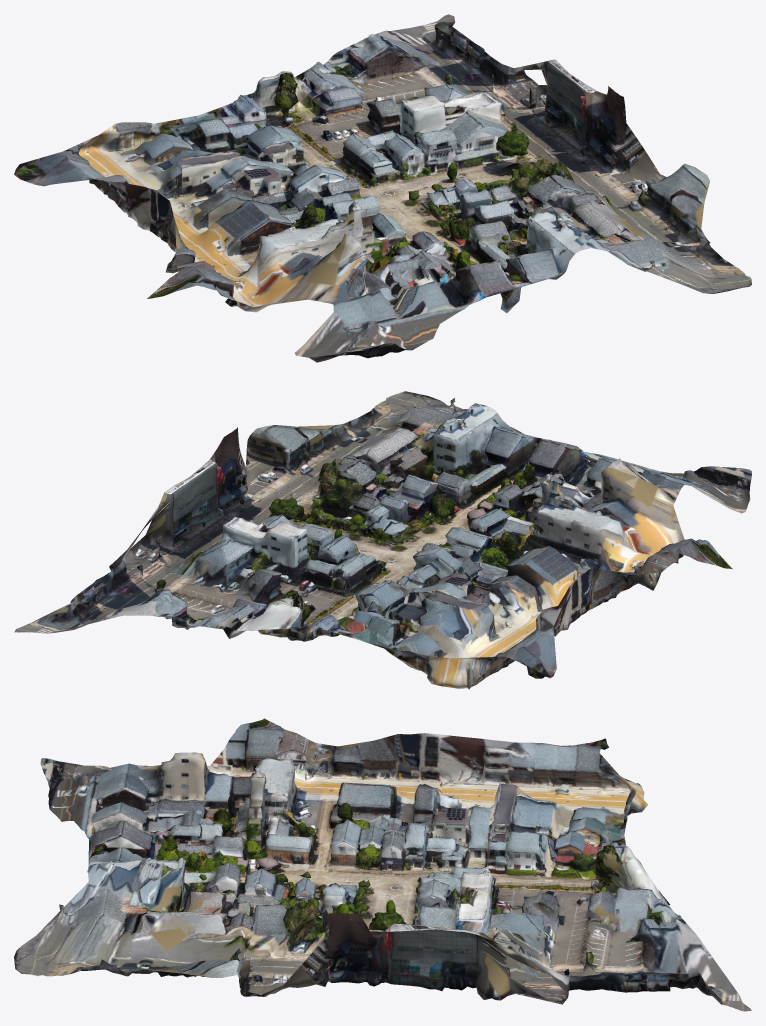
The model's file is drone2.glb.
3 renders of one model, top to bottom at view 1: azimuth 30°, elevation 25°; view 2: azimuth 150°, elevation 25°; view 3: azimuth 270°, elevation 25°, orthographic. The views are drawn at different scales.
Visible parts, largest first — view 1: baked_mesh; view 2: baked_mesh; view 3: baked_mesh.
Part boxes in pixels (x1=…): baked_mesh: x1=14, y1=14, x2=751, y2=362; baked_mesh: x1=14, y1=391, x2=751, y2=689; baked_mesh: x1=14, y1=718, x2=751, y2=1011.
Size of the model in its own units: 159 by 23.2 by 184.
Materials: 1 (1 with a texture image).
